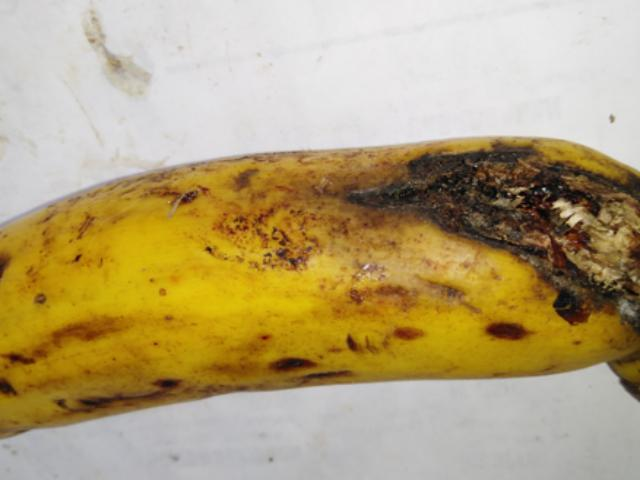rotten: (350, 136, 639, 391)
